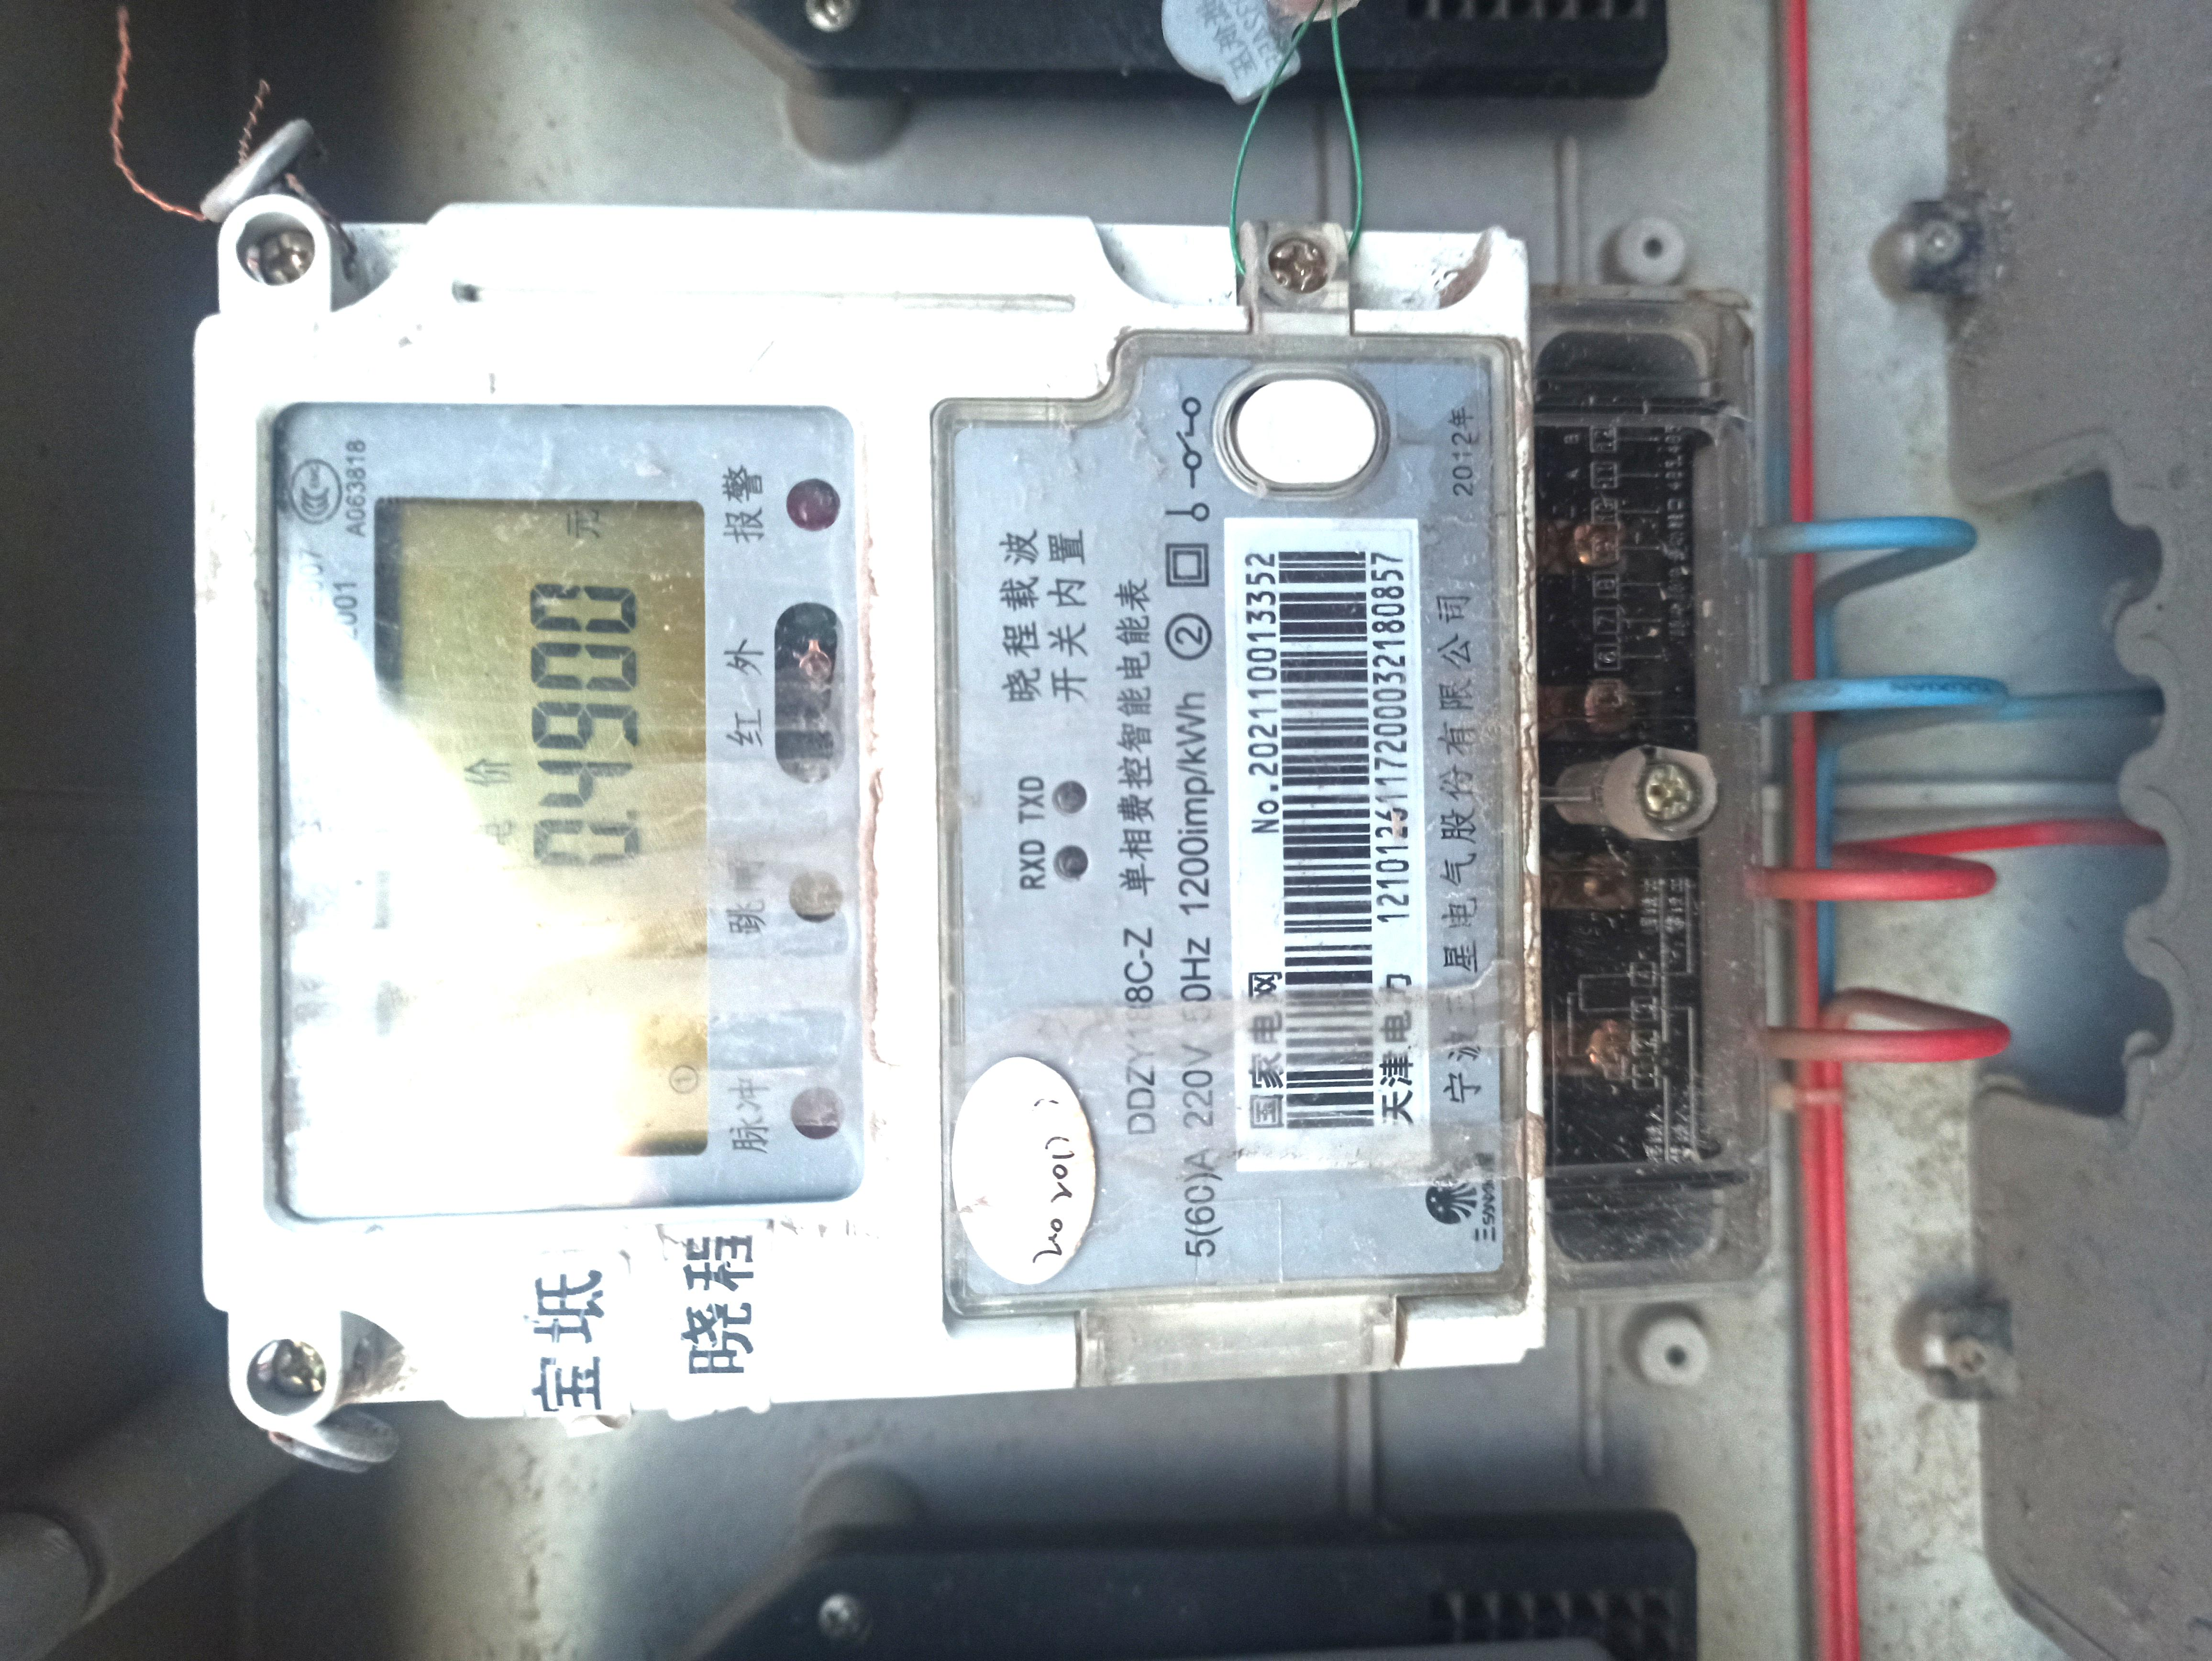digital: (190, 206, 1547, 1405)
